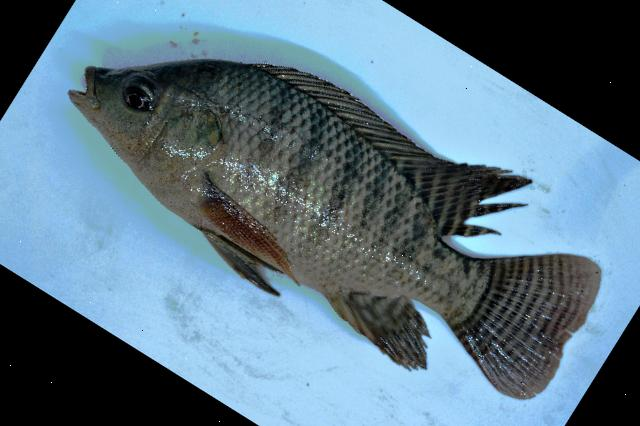Healthy Fish: (68, 59, 600, 399)
